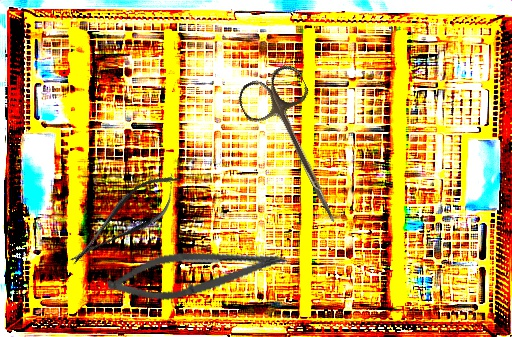Iris Scissors: (232, 60, 368, 236)
Micro Scissor: (57, 161, 193, 278), (104, 229, 290, 314)
